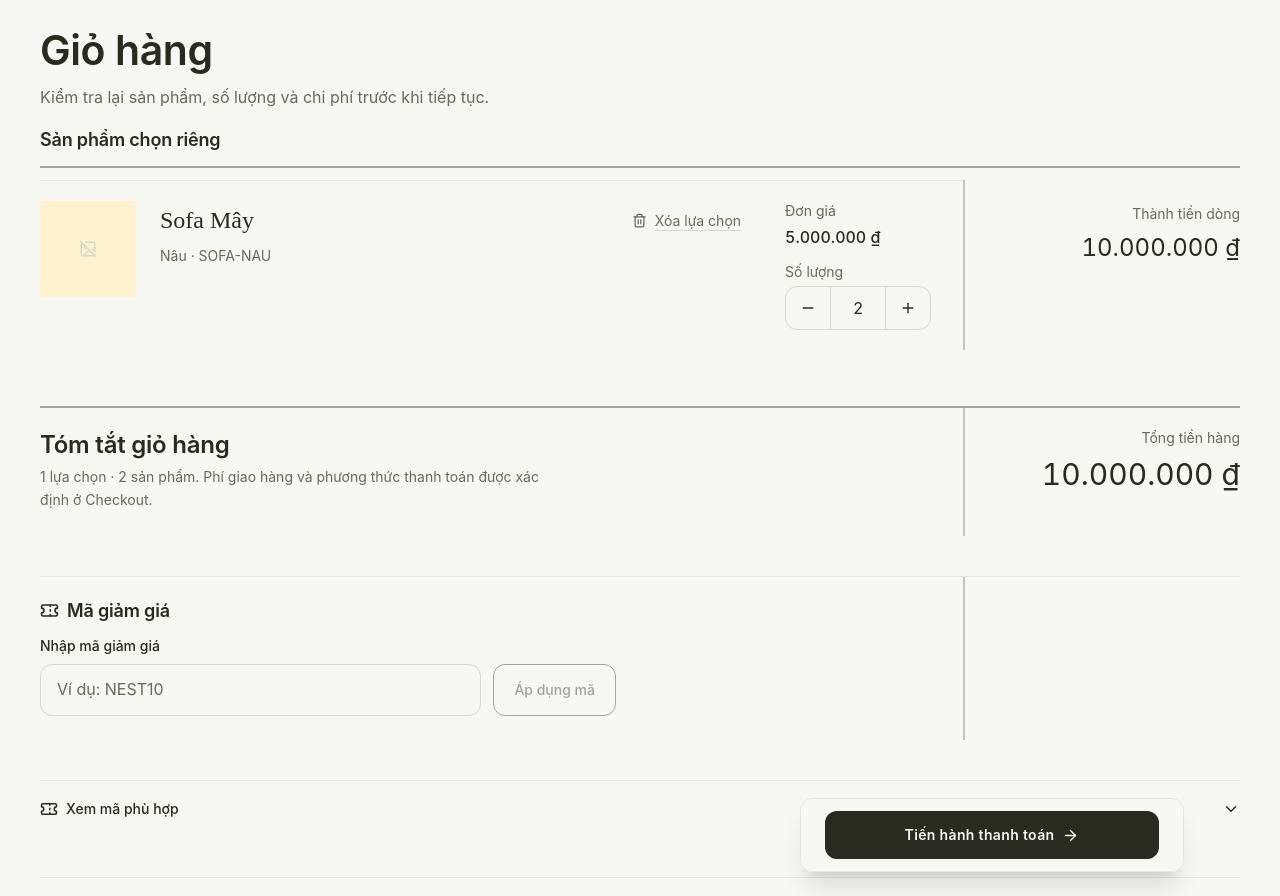
Test: CartPage › clears a stale voucher preview after a successful quantity change
The image size is (1280, 896).
Expected: the link "Sofa Mây" is shown, [160,204,254,237]
Click the heading "Xem mã phù hợp" at point(122, 808), box [40,800,1240,818]
(page scrolled)
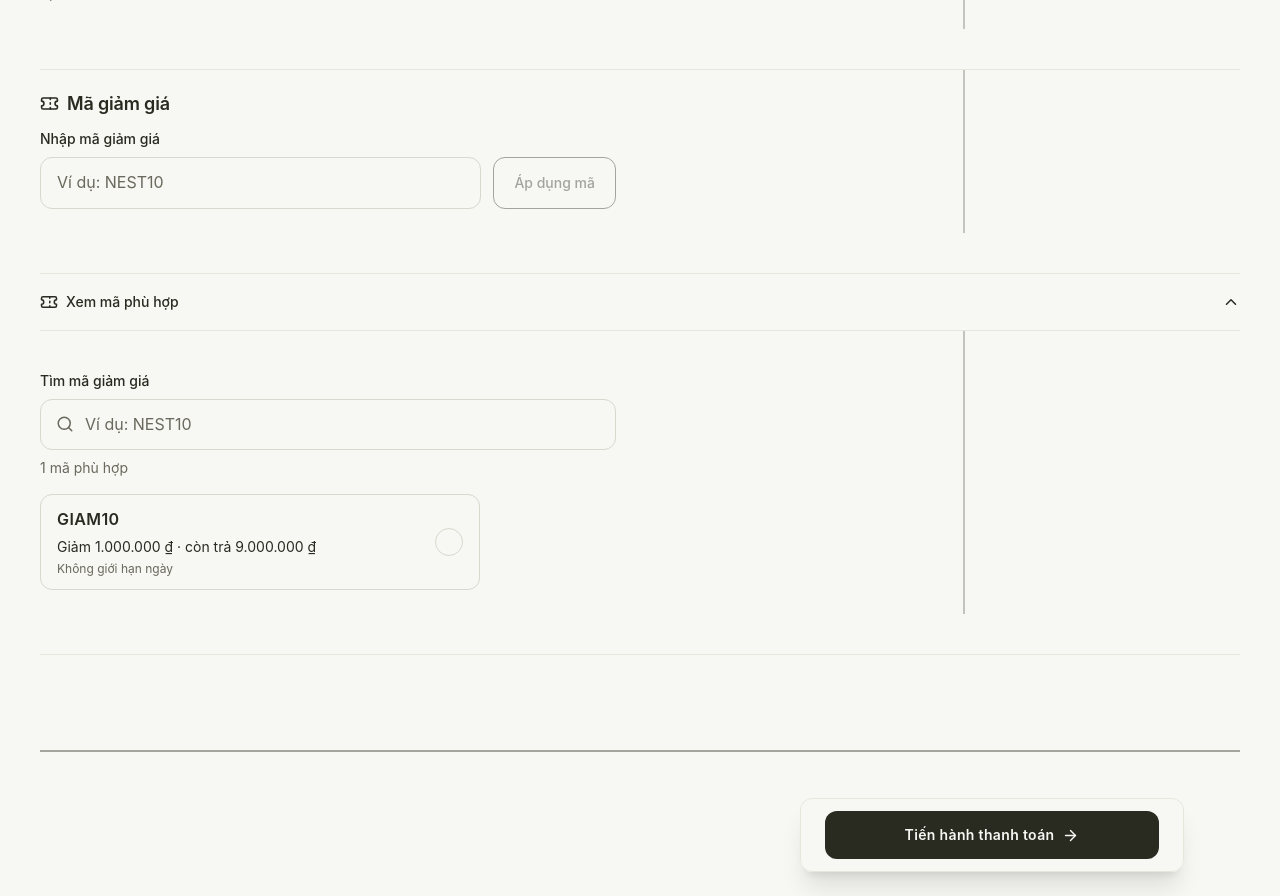
Click the radio button labelled "GIAM10" at point(260, 542), box [40,494,480,590]
(page scrolled)
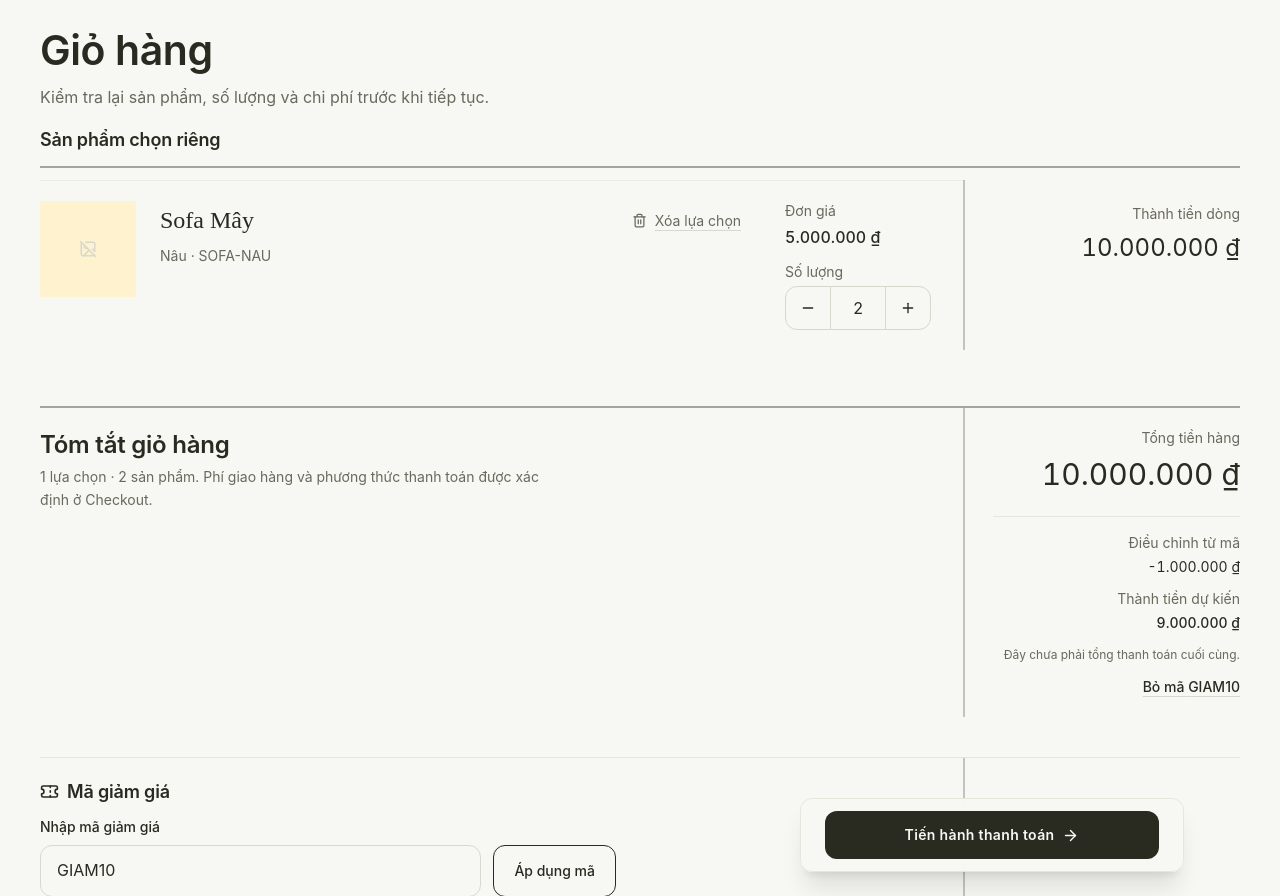
Expected: the text "9.000.000 ₫" is shown, [1157,613,1240,633]
Click the button named "Tăng số lượng" at point(908, 308), box [886,286,930,330]
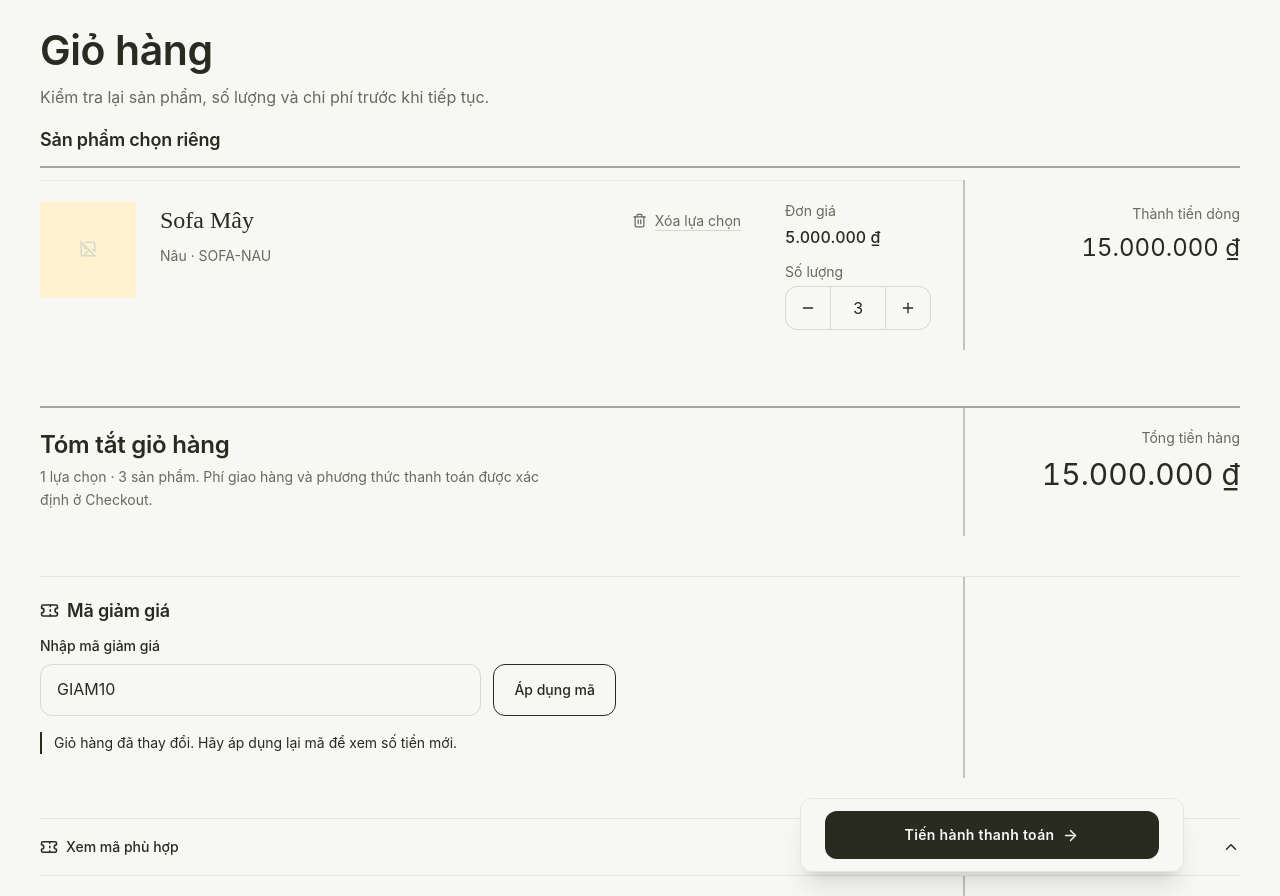
Expected: the text "15.000.000 ₫" is shown 2 times, [1082,233,1240,262]; [1042,456,1240,492]
Expected: the message shows "Giỏ hàng đã thay đổi", [54,734,457,751]
